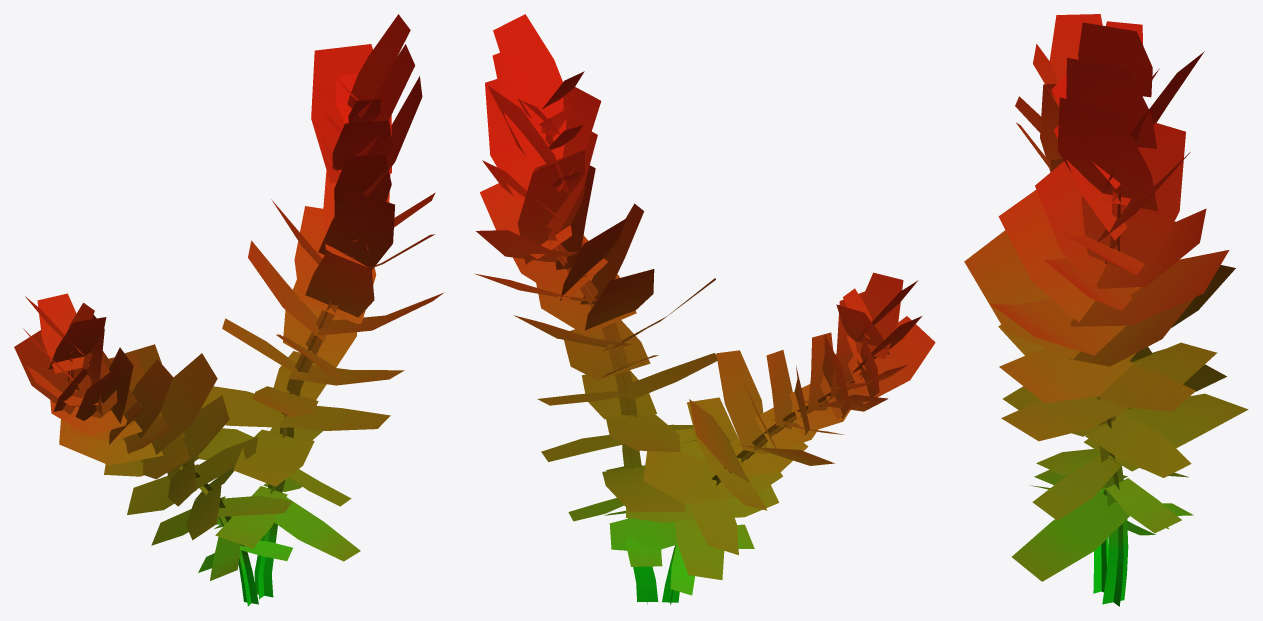
Rendered from Var1_LOD3.fbx.
3 views of the same model, side by side, from view 1: azimuth 30°, elevation 25°; view 2: azimuth 150°, elevation 25°; view 3: azimuth 270°, elevation 25° (orthographic). The views are drawn at different scales.
Parts seen in each view (by area): view 1: _fe4f_Var1_LOD3; view 2: _fe4f_Var1_LOD3; view 3: _fe4f_Var1_LOD3.
Boxes of the visible parts, x1,y1,x2,y2 form: _fe4f_Var1_LOD3: (14, 14, 444, 606); _fe4f_Var1_LOD3: (474, 14, 935, 605); _fe4f_Var1_LOD3: (964, 14, 1248, 606).
Size of the model in its own units: 63.26 by 78.12 by 30.54.
